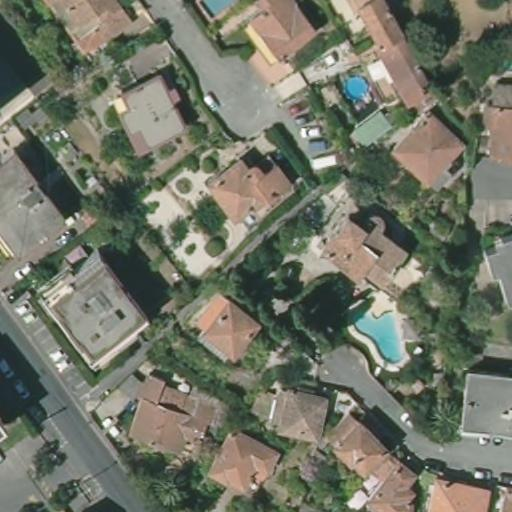pool: (351, 302, 409, 368), (197, 0, 246, 18), (343, 71, 372, 99)
